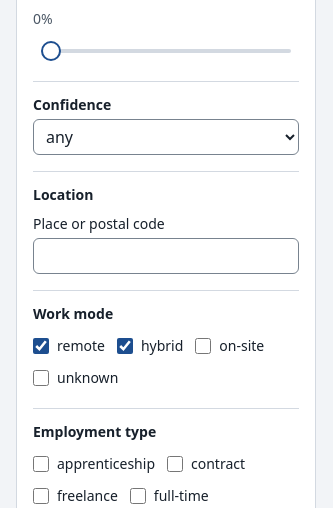
Scenario: FilterPanel › the last ticked work mode cannot be unticked
The width and height of the screenshot is (333, 508).
(page scrolled)
Expected: the checkbox labelled "remote" is enabled, 33,338 -> 49,354
What coordinates should you click on to do the following:
click the checkbox labelled "hybrid"
I would click on:
 (125, 346)
Its box is 117,338 -> 133,354.
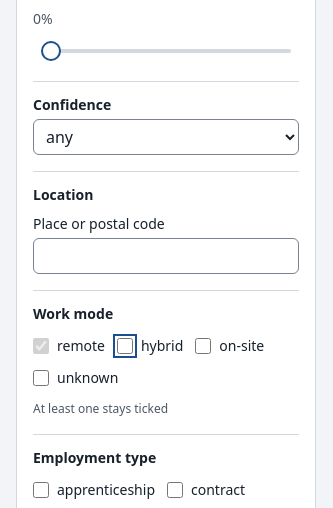
Expected: the checkbox labelled "remote" is disabled
Expected: the text "At least one stays ticked" is shown, 33,400 -> 168,416
What coordinates should you click on to do the following:
click the checkbox labelled "remote"
I would click on:
 (41, 346)
Its box is 33,338 -> 49,354.
(page scrolled)
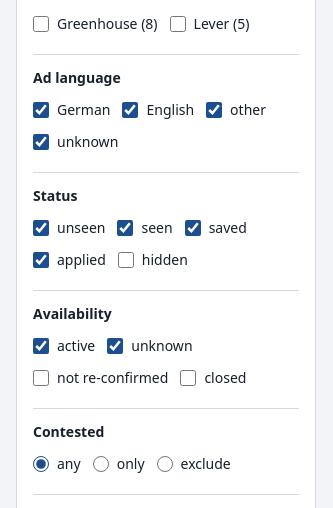
Expected: the text "At least one stays ticked" is not shown
# the same guard on the other closed sets
What coordinates should you click on to do the following:
click the checkbox labelled "unknown" next to "active"
I would click on:
 (115, 346)
Its box is 107,338 -> 123,354.
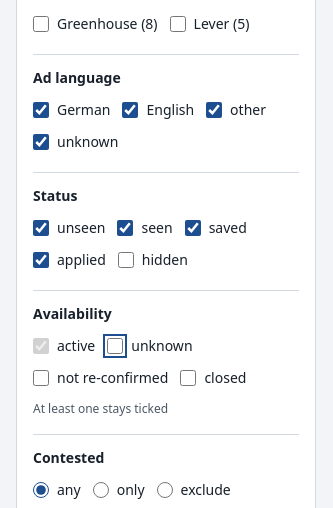
Expected: the checkbox labelled "active" is disabled, 33,338 -> 49,354
